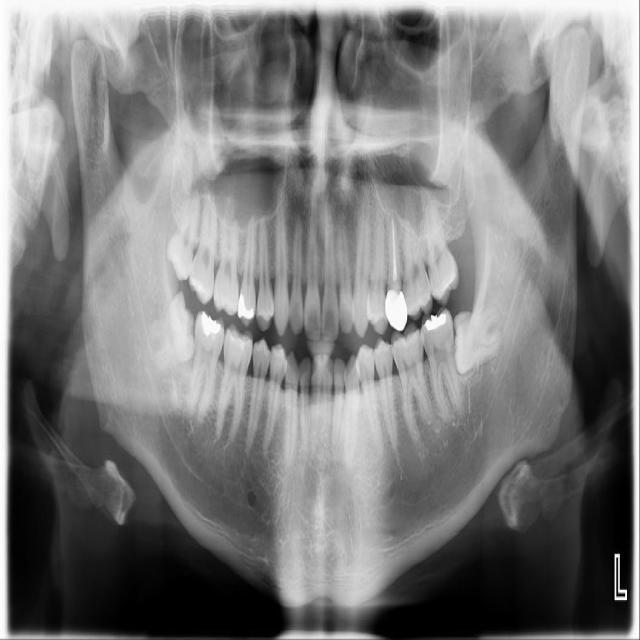3M ESPE Implant: (163, 188, 202, 282)
52: (190, 310, 227, 360), (421, 307, 454, 363), (236, 279, 258, 326), (385, 290, 408, 332)
73: (387, 214, 404, 293), (566, 584, 570, 592)
BioHorizons Implant: (417, 184, 460, 305)
Biomet 3i Implant: (452, 304, 502, 372)
Blue Sky Bio Implant: (418, 306, 462, 424)
Caries: (185, 195, 226, 304)
Implant: (188, 310, 226, 422)
Keystone Dental Implant: (136, 289, 205, 373)
